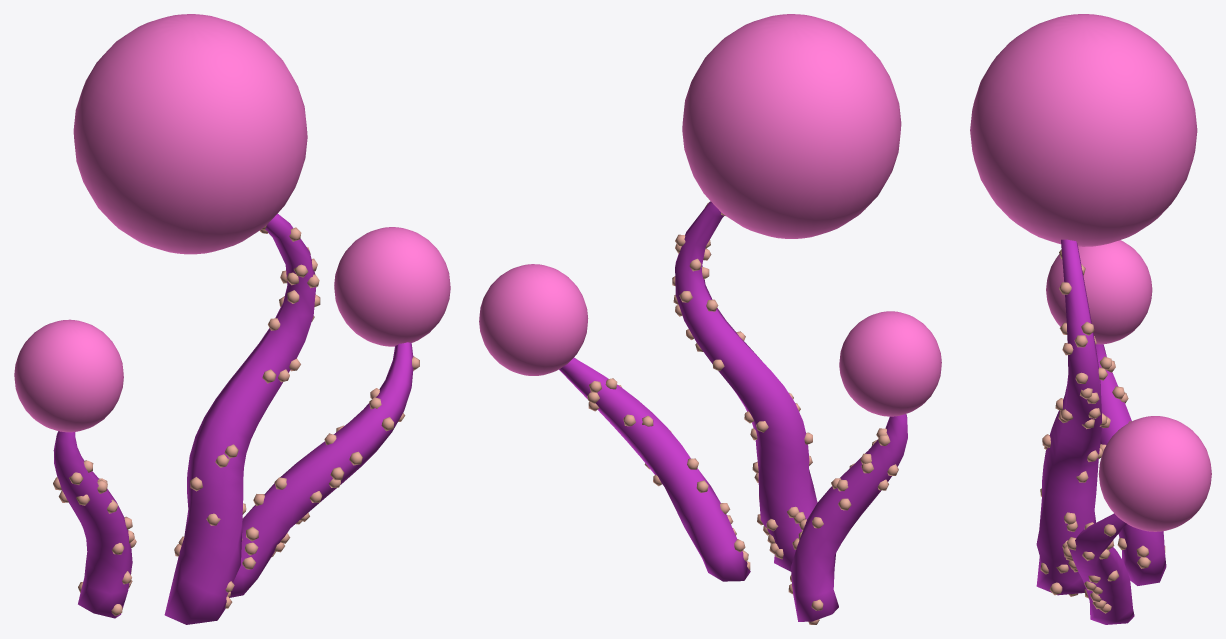
Rendered from Plant 2.fbx.
3 renders of one model, left to right at view 1: azimuth 30°, elevation 25°; view 2: azimuth 150°, elevation 25°; view 3: azimuth 270°, elevation 25°, orthographic. The views are drawn at different scales.
Parts seen in each view (by area): view 1: Plant 2; view 2: Plant 2; view 3: Plant 2.
Boxes of the visible parts, x1,y1,x2,y2 form: Plant 2: (14,14,450,624); Plant 2: (479,14,941,624); Plant 2: (970,14,1211,624).
Size of the model in its own units: 190 by 242 by 91.06.
